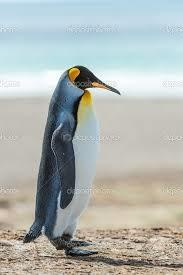king: (18, 51, 123, 260)
